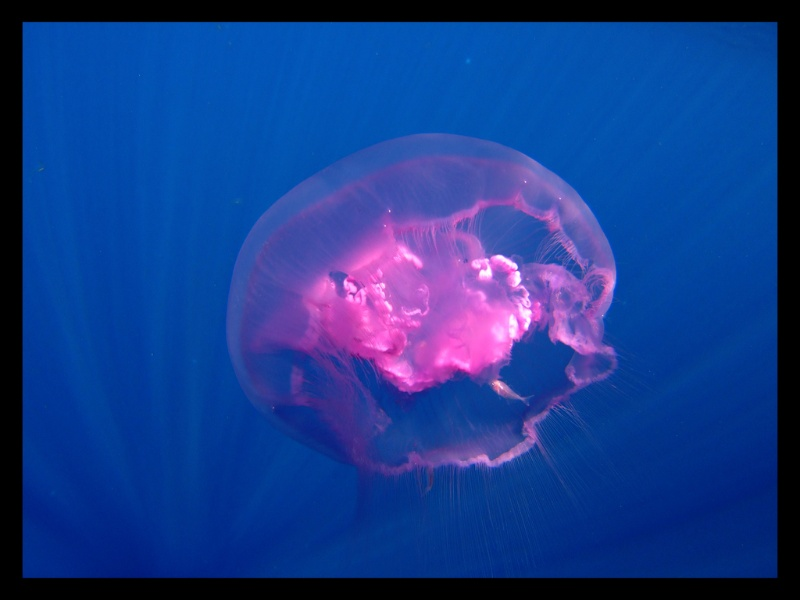Jellyfish: (226, 139, 630, 493)
